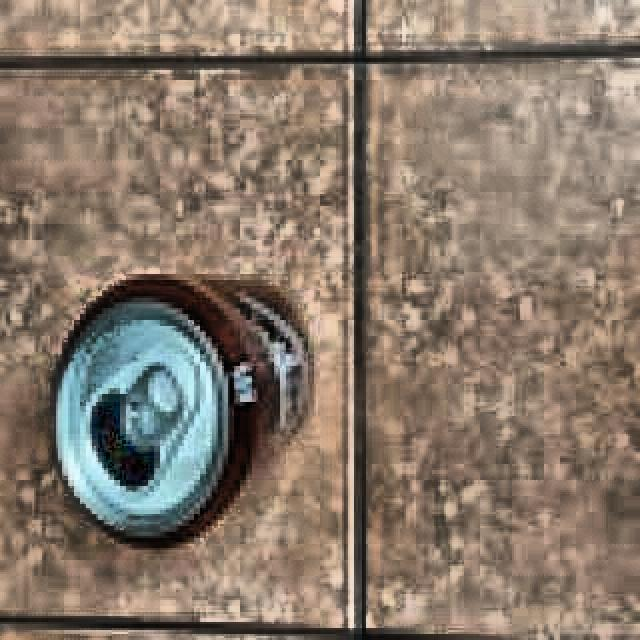metal: (45, 271, 310, 559)
